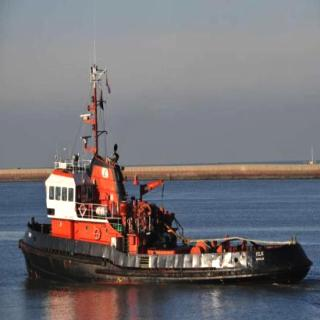Tug Boat: (20, 89, 313, 285)
